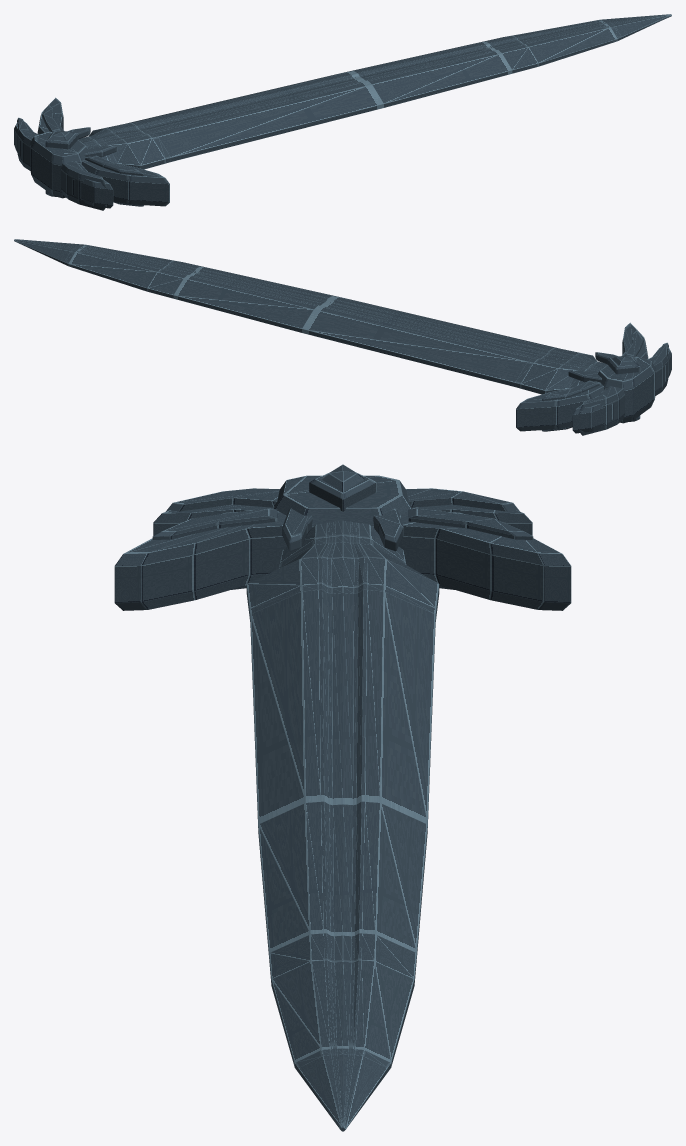
File: bench_zhuji_baiqing_lingyun_sword_2.obj
3 renders of one model, top to bottom at view 1: azimuth 30°, elevation 25°; view 2: azimuth 150°, elevation 25°; view 3: azimuth 270°, elevation 25°, orthographic. The views are drawn at different scales.
Visible parts, largest first — view 1: geometry; view 2: geometry; view 3: geometry.
Part boxes in pixels (<box>): geometry: <box>14,14,671,210</box>; geometry: <box>14,239,671,435</box>; geometry: <box>114,464,571,1131</box>.
Size of the model in its own units: 0.75 by 0.0722 by 0.2357.
